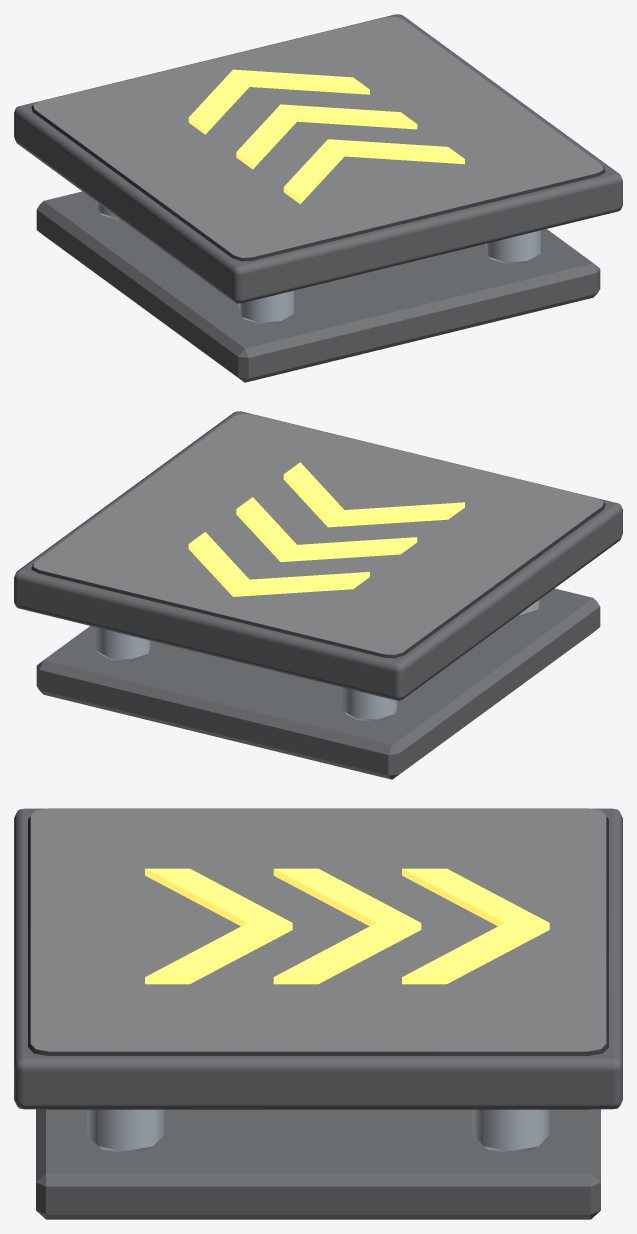
Rendered from R4D_KnockbackTrap.glb.
The picture shows the model from 3 angles, top to bottom: view 1: azimuth 30°, elevation 25°; view 2: azimuth 150°, elevation 25°; view 3: azimuth 270°, elevation 25°; orthographic projection. The views are drawn at different scales.
Visible parts, largest first — view 1: R4D_KnockbackTrap_Plate, R4D_KnockbackTrap_Body; view 2: R4D_KnockbackTrap_Plate, R4D_KnockbackTrap_Body; view 3: R4D_KnockbackTrap_Plate, R4D_KnockbackTrap_Body.
Part boxes in pixels (box(x1,y1,x2,y2)): R4D_KnockbackTrap_Plate: box(14, 14, 622, 303); R4D_KnockbackTrap_Body: box(36, 191, 600, 382); R4D_KnockbackTrap_Plate: box(14, 411, 622, 700); R4D_KnockbackTrap_Body: box(36, 588, 600, 779); R4D_KnockbackTrap_Plate: box(14, 808, 622, 1109); R4D_KnockbackTrap_Body: box(36, 1109, 600, 1219).
Size of the model in its own units: 0.474 by 0.156 by 0.474.
